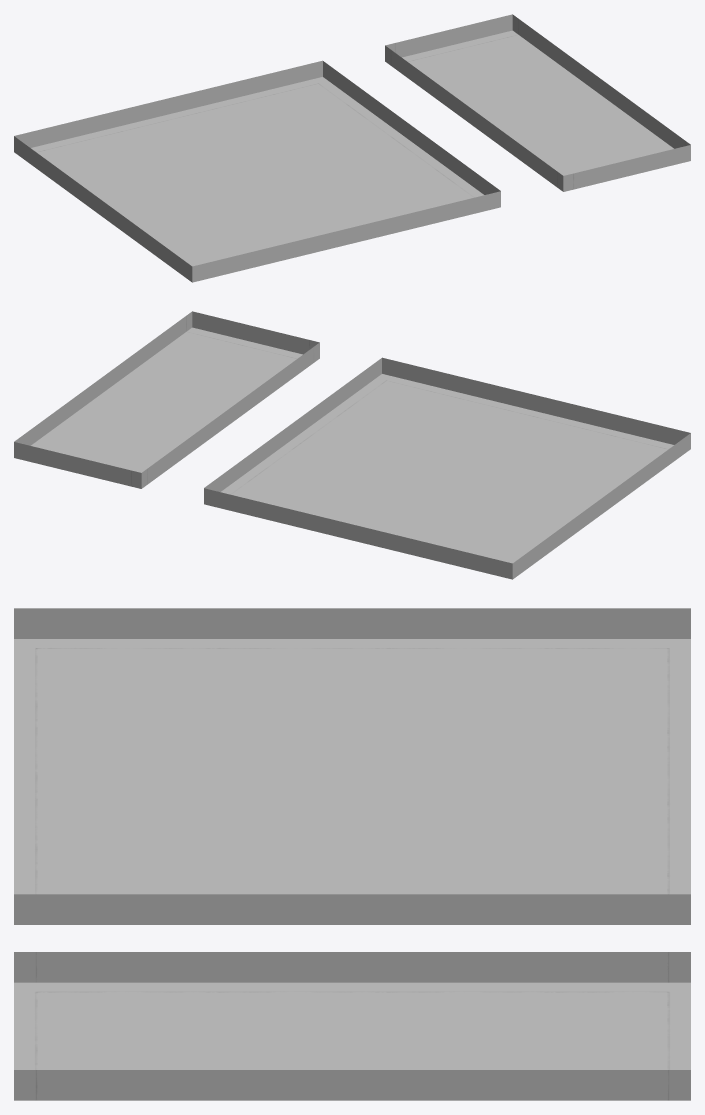
The model's file is Ceiling.fbx.
3 views of the same model, one above another, from view 1: azimuth 30°, elevation 25°; view 2: azimuth 150°, elevation 25°; view 3: azimuth 270°, elevation 25° (orthographic). The views are drawn at different scales.
Parts seen in each view (by area): view 1: Decke_2mx2m, Decke_2mx8cm; view 2: Decke_2mx2m, Decke_2mx8cm; view 3: Decke_2mx2m, Decke_2mx8cm.
Part boxes in pixels (left/top/right/bottom): Decke_2mx2m: left=14, top=60, right=500, bottom=282; Decke_2mx8cm: left=385, top=14, right=690, bottom=191; Decke_2mx2m: left=204, top=357, right=690, bottom=579; Decke_2mx8cm: left=14, top=311, right=319, bottom=488; Decke_2mx2m: left=14, top=608, right=690, bottom=924; Decke_2mx8cm: left=14, top=952, right=690, bottom=1100.
Bounding box in the file's own units: 323 × 10 × 200.
